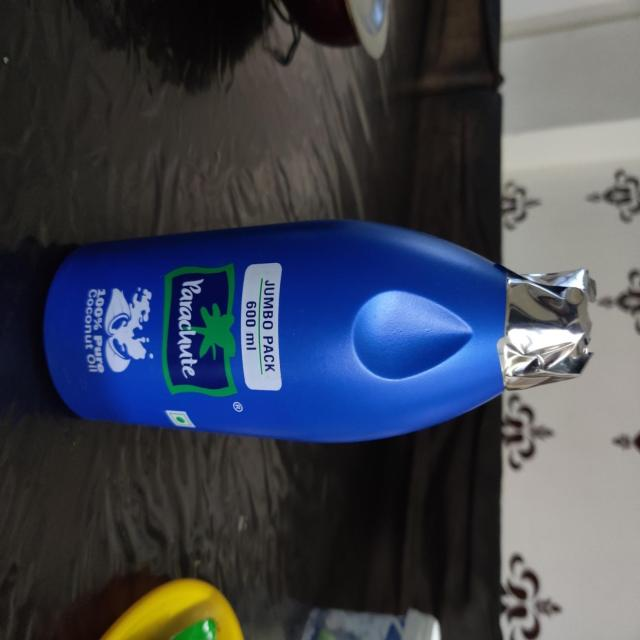parachute_oil: (42, 195, 602, 449)
